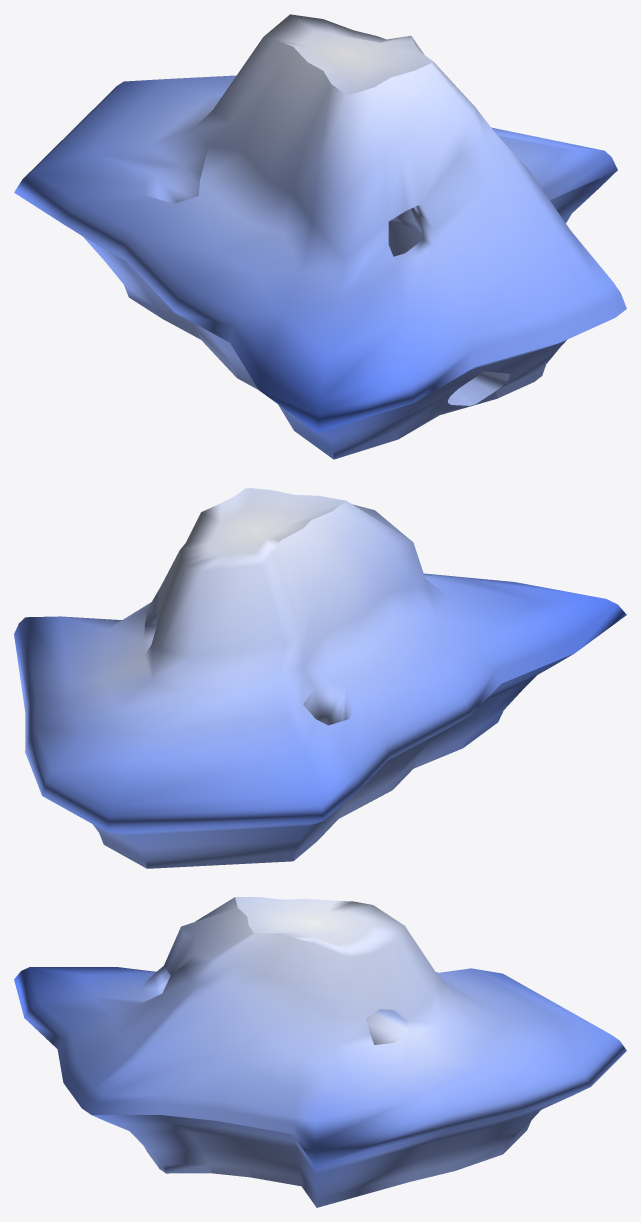
The model's file is big m,ouatin.fbx.
3 renders of one model, top to bottom at view 1: azimuth 30°, elevation 25°; view 2: azimuth 150°, elevation 25°; view 3: azimuth 270°, elevation 25°, orthographic. The views are drawn at different scales.
Visible parts, largest first — view 1: Sub_Island; view 2: Sub_Island; view 3: Sub_Island.
Boxes of the visible parts, x1,y1,x2,y2 form: Sub_Island: (14,14,626,459); Sub_Island: (14,488,626,868); Sub_Island: (14,897,626,1207).
Bounding box in the file's own units: 15.53 × 8.52 × 21.53.
